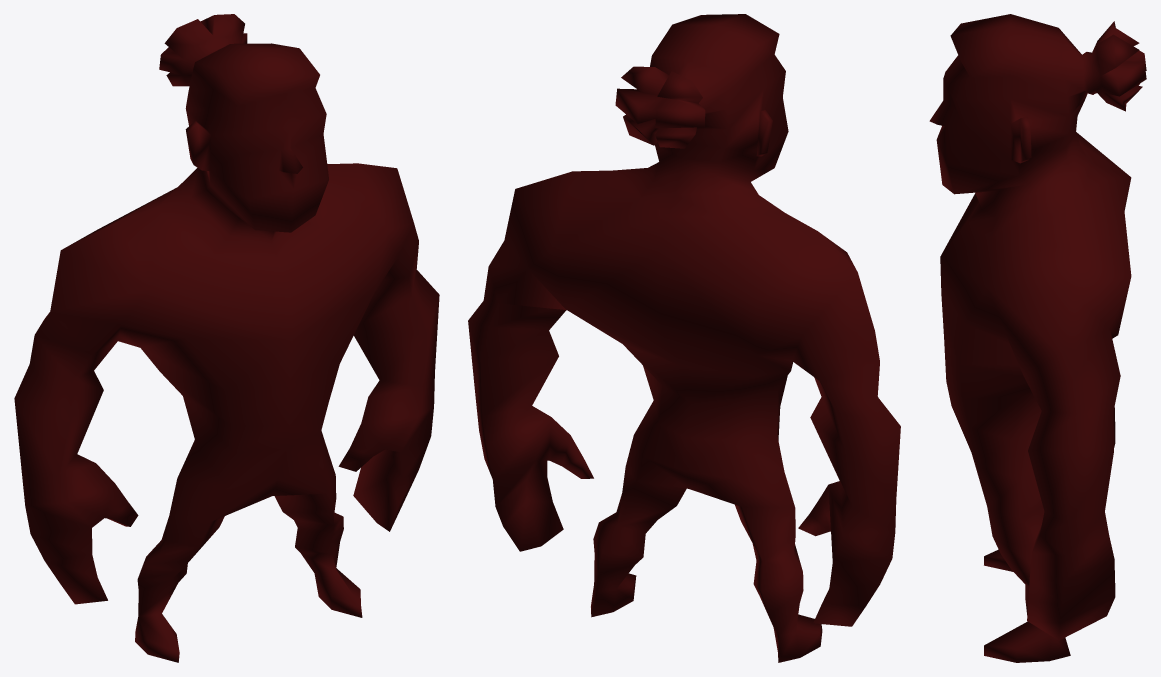
File: Gorilla.obj
3 views of the same model, side by side, from view 1: azimuth 30°, elevation 25°; view 2: azimuth 150°, elevation 25°; view 3: azimuth 270°, elevation 25° (orthographic).
Visible parts, largest first — view 1: Cube_0; view 2: Cube_0; view 3: Cube_0.
Part boxes in pixels (<box>): Cube_0: <box>14,14,439,662</box>; Cube_0: <box>468,14,900,662</box>; Cube_0: <box>929,14,1146,662</box>.
Size of the model in its own units: 1.86 by 2.43 by 0.8186.
